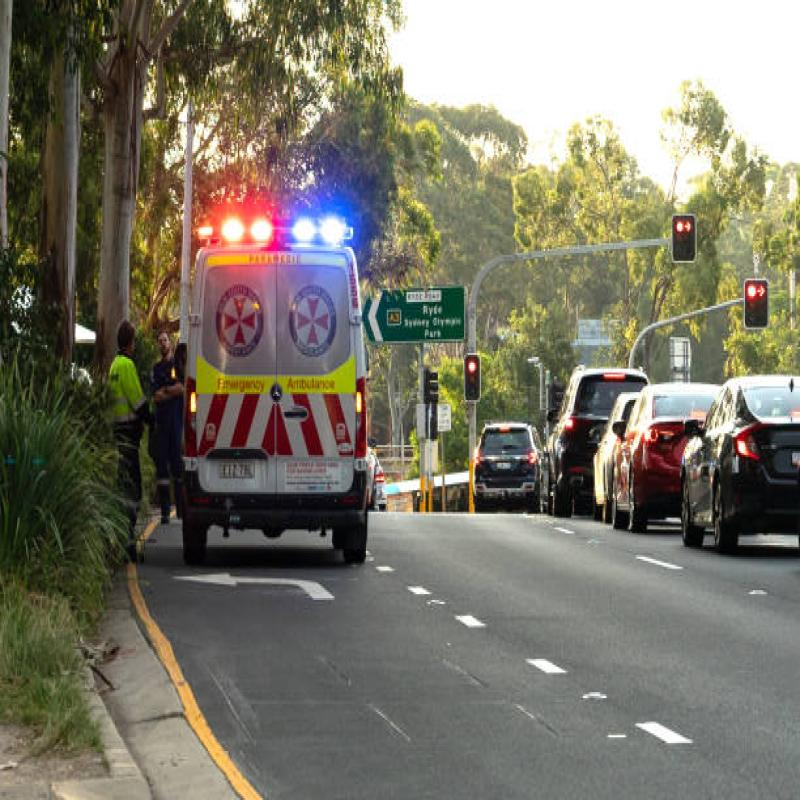AmbulanceSiren: (194, 185, 372, 260)
ambulance: (177, 244, 388, 562)
car: (680, 371, 800, 594), (616, 364, 731, 540), (550, 344, 651, 520), (470, 412, 548, 526)
